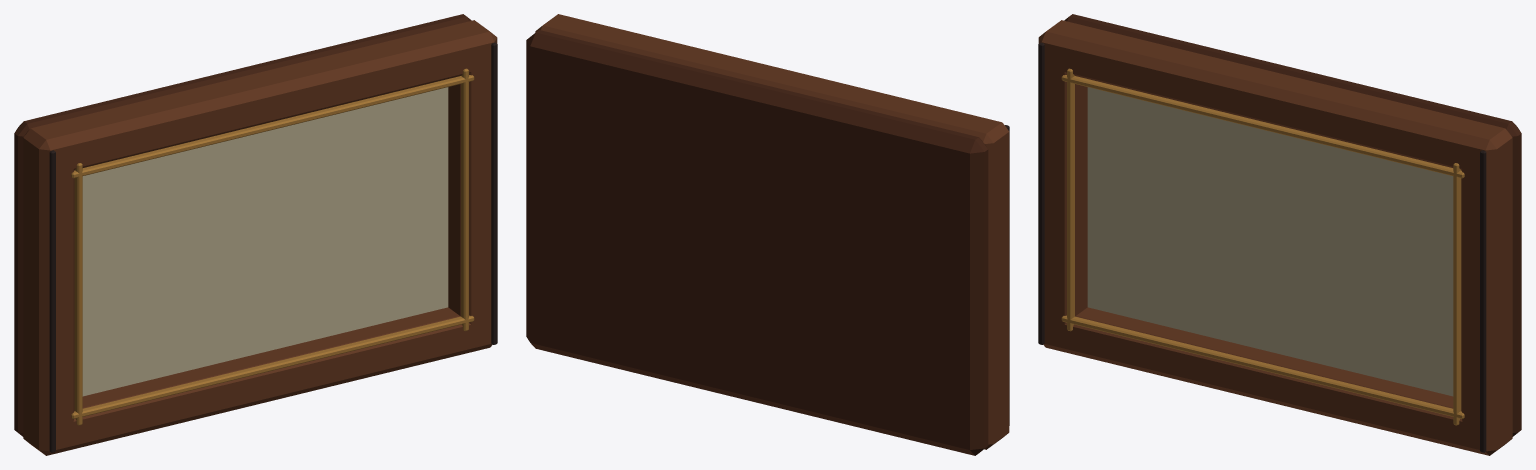
File: LandscapeFrame.glb
3 views of the same model, side by side, from view 1: azimuth 30°, elevation 25°; view 2: azimuth 150°, elevation 25°; view 3: azimuth 330°, elevation 25° (orthographic).
Visible parts, largest first — view 1: BlankPictureInsert.001, OakEndRail.003, OakEndRail.002, OakSideRail.002, OakSideRail.003, Backing.001, BrassInnerEnd.002, BrassInnerEnd.003, BrassInnerRail.002, OuterDarkRail.003, OuterDarkRail.002, BrassInnerRail.003; view 2: Backing.001, OakEndRail.003, OakSideRail.002, OakEndRail.002, OakSideRail.003; view 3: BlankPictureInsert.001, OakEndRail.003, OakEndRail.002, OakSideRail.003, OakSideRail.002, Backing.001, BrassInnerEnd.002, BrassInnerEnd.003, BrassInnerRail.003, OuterDarkRail.002, OuterDarkRail.003, BrassInnerRail.002.
Boxes of the visible parts, <box> form: BlankPictureInsert.001: <box>82,87,448,396</box>; OakEndRail.003: <box>23,25,486,174</box>; OakEndRail.002: <box>23,307,492,455</box>; OakSideRail.002: <box>23,123,74,455</box>; OakSideRail.003: <box>448,20,497,349</box>; Backing.001: <box>14,14,471,436</box>; BrassInnerEnd.002: <box>71,315,474,418</box>; BrassInnerEnd.003: <box>71,75,474,178</box>; BrassInnerRail.002: <box>74,163,82,425</box>; OuterDarkRail.003: <box>491,42,497,344</box>; OuterDarkRail.002: <box>49,150,55,452</box>; BrassInnerRail.003: <box>461,68,468,331</box>; Backing.001: <box>526,30,988,455</box>; OakEndRail.003: <box>535,19,1009,167</box>; OakSideRail.002: <box>961,117,1009,442</box>; OakEndRail.002: <box>984,409,1009,449</box>; OakSideRail.003: <box>541,14,580,35</box>; BlankPictureInsert.001: <box>1087,87,1453,396</box>; OakEndRail.003: <box>1038,25,1512,174</box>; OakEndRail.002: <box>1043,307,1512,455</box>; OakSideRail.003: <box>1461,123,1512,439</box>; OakSideRail.002: <box>1043,20,1087,349</box>; Backing.001: <box>1064,14,1521,436</box>; BrassInnerEnd.002: <box>1061,315,1464,418</box>; BrassInnerEnd.003: <box>1061,75,1464,178</box>; BrassInnerRail.003: <box>1453,163,1461,425</box>; OuterDarkRail.002: <box>1038,42,1044,344</box>; OuterDarkRail.003: <box>1480,150,1486,452</box>; BrassInnerRail.002: <box>1067,68,1074,331</box>.
Bounding box in the file's own units: 2.2 × 1.45 × 0.305.
